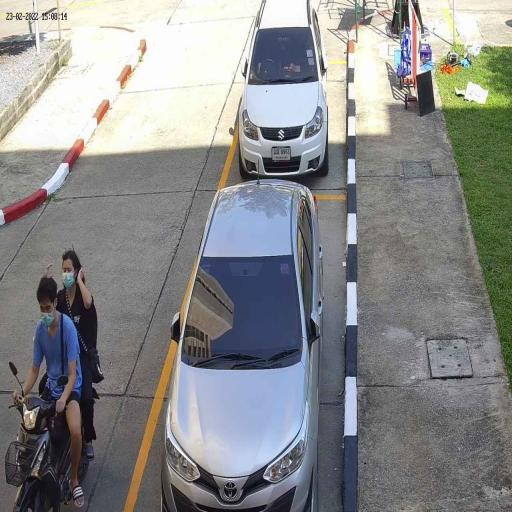car: (160, 178, 324, 512), (237, 0, 328, 178)
motorcycle: (11, 393, 92, 512)
